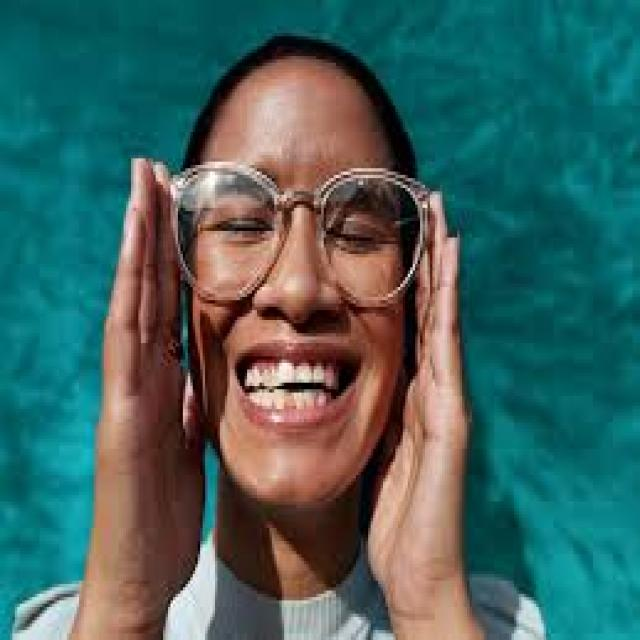Glasses: (163, 158, 430, 307)
